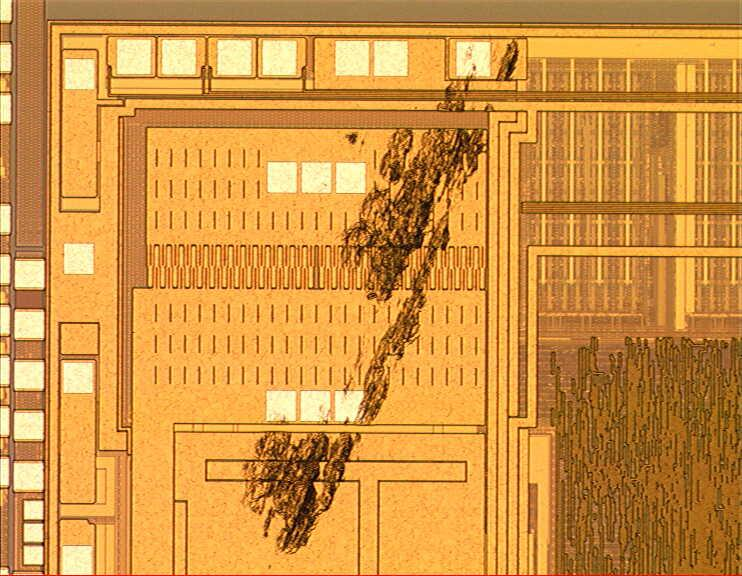SCRATCH: (214, 14, 555, 576)
